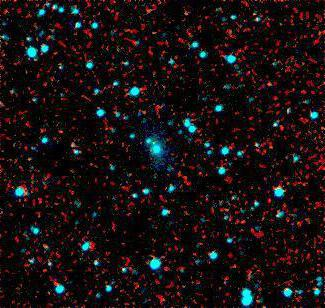star: (139, 127, 169, 157)
